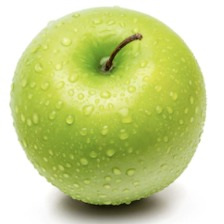apple: (23, 14, 159, 171)
